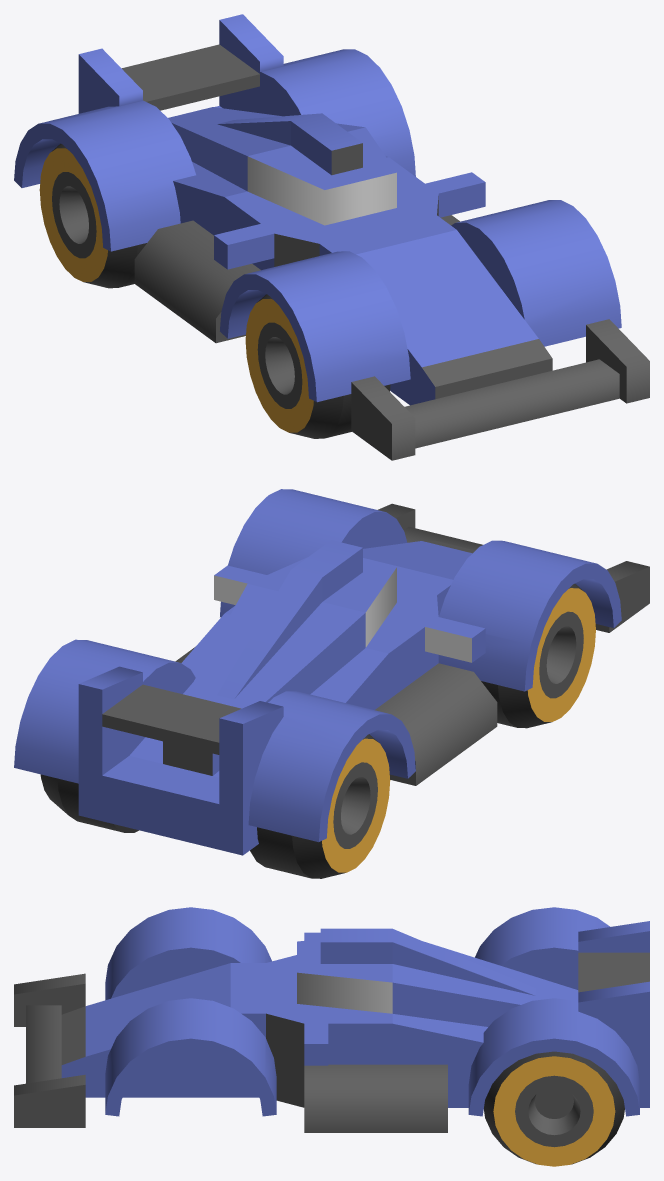
The model's file is raceFuture.dae.
3 views of the same model, one above another, from view 1: azimuth 30°, elevation 25°; view 2: azimuth 150°, elevation 25°; view 3: azimuth 270°, elevation 25° (orthographic). The views are drawn at different scales.
Parts seen in each view (by area): view 1: body, wheel_frontLeft, wheel_backLeft; view 2: body, wheel_backLeft, wheel_frontLeft, wheel_backRight; view 3: body, wheel_backRight.
Part boxes in pixels (box(x1,y1,x2,y2)): body: box(14, 14, 649, 460); wheel_frontLeft: box(245, 294, 390, 438); wheel_backLeft: box(39, 143, 146, 288); body: box(14, 489, 649, 855); wheel_backLeft: box(250, 734, 390, 878); wheel_frontLeft: box(481, 583, 595, 728); wheel_backRight: box(40, 774, 138, 832); body: box(14, 907, 649, 1132); wheel_backRight: box(484, 1051, 624, 1166).
Size of the model in its own units: 1.3 by 0.8325 by 2.66.
